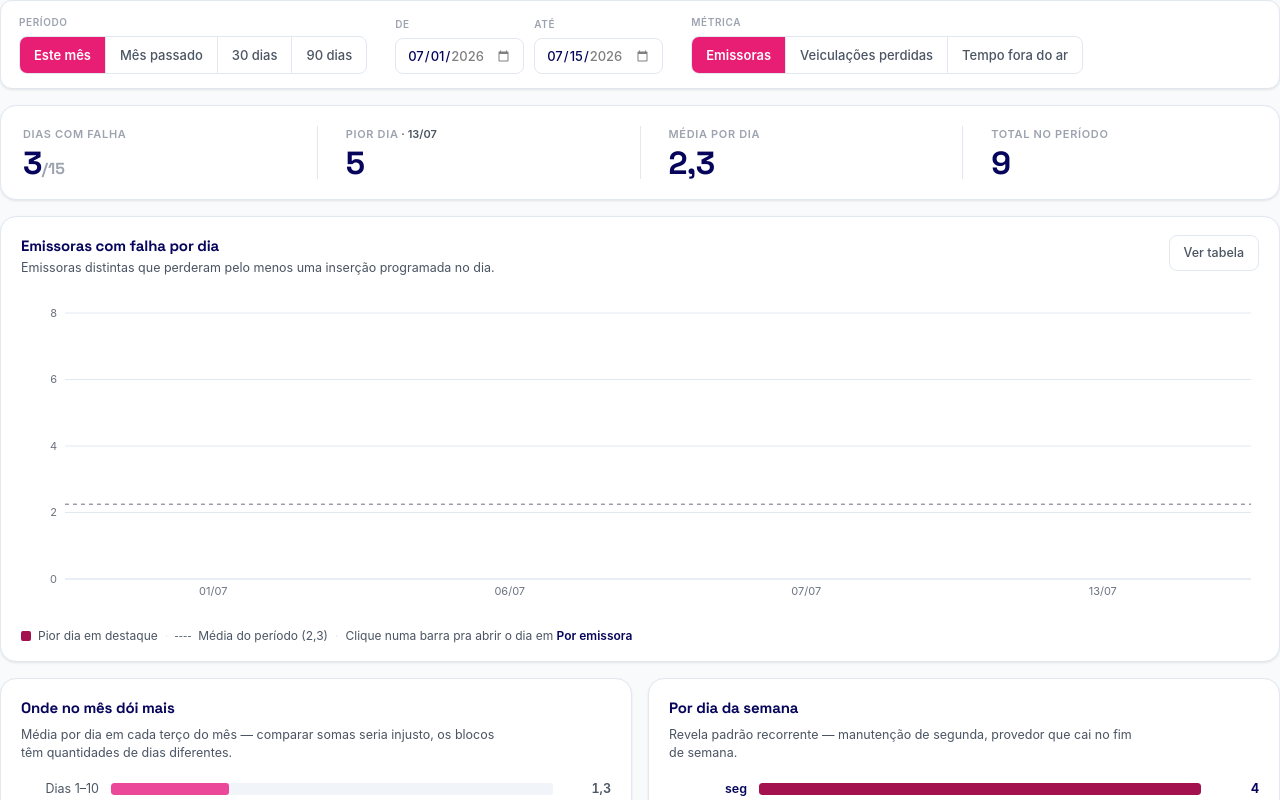
Test: FailuresDailyView — KPIs e métricas › métrica Tempo fora do ar é plotada em minutos e formatada em horas
Expected: the text "dias com falha" is shown, [23,127,126,141]
What coordinates should you click on to do the following:
click the button "Tempo fora do ar"
I would click on:
 (1015, 55)
Its box is [948,37,1082,73].
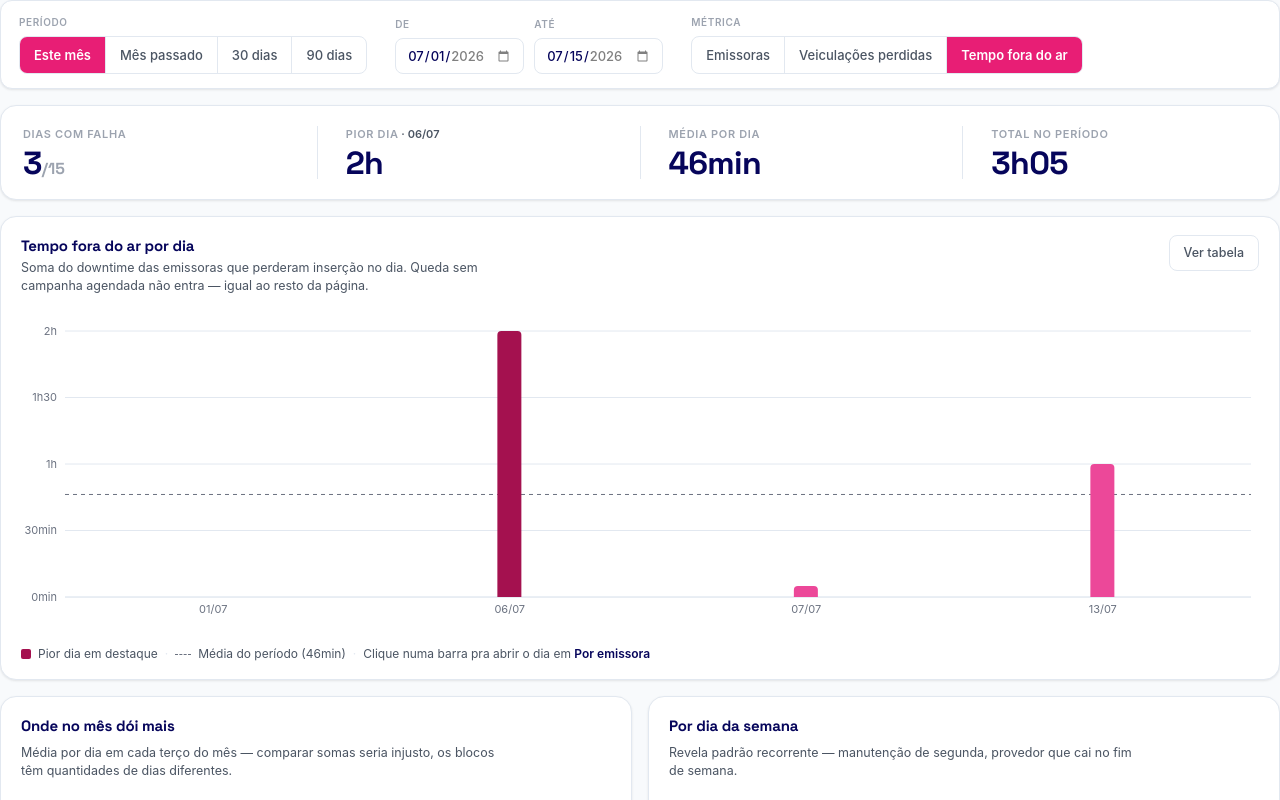
Expected: the heading "Tempo fora do ar por dia" is shown, [21,236,194,254]
